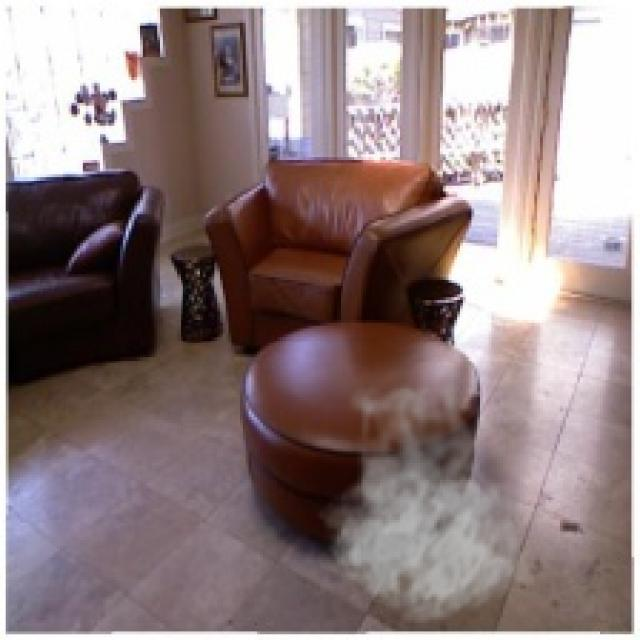smoke: (312, 366, 532, 626)
